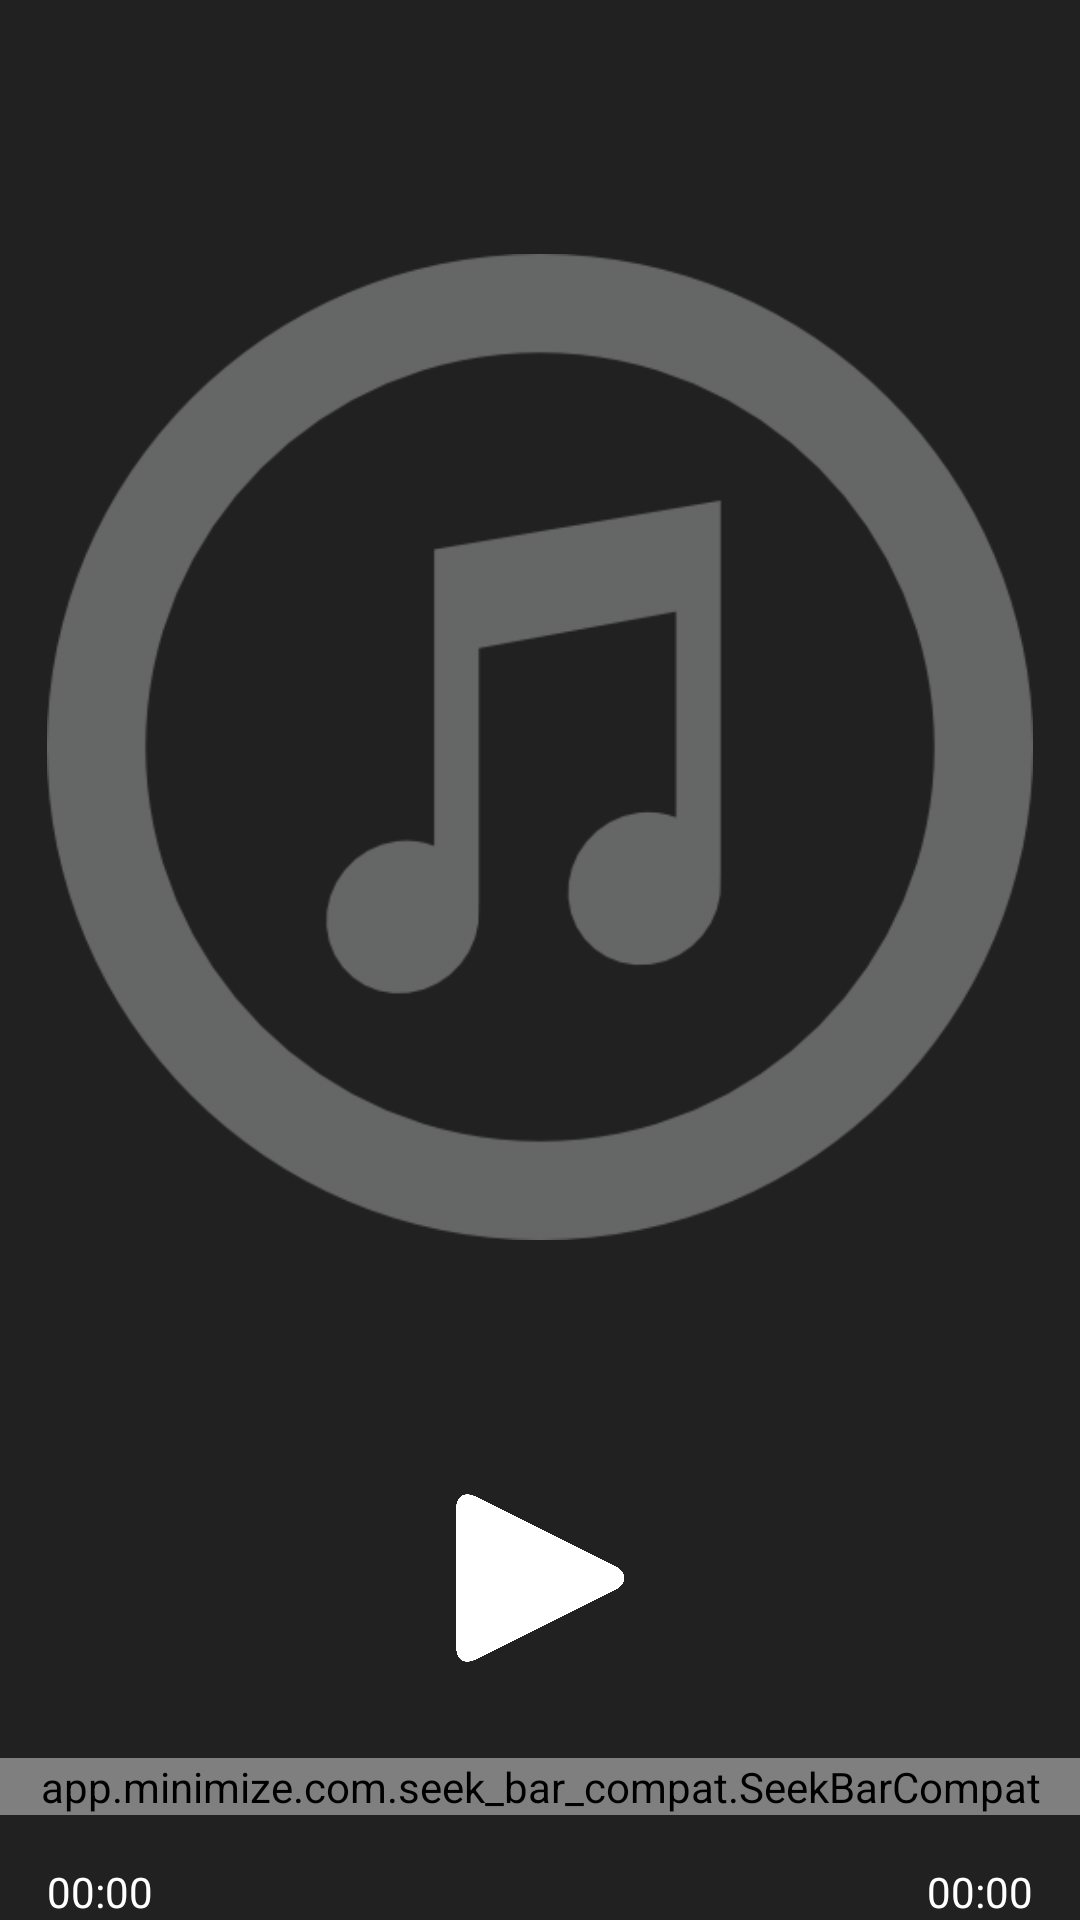

Point at icon controls on the screen. Image size 1080*1920, points as [x,y].
play: [540,1578]
